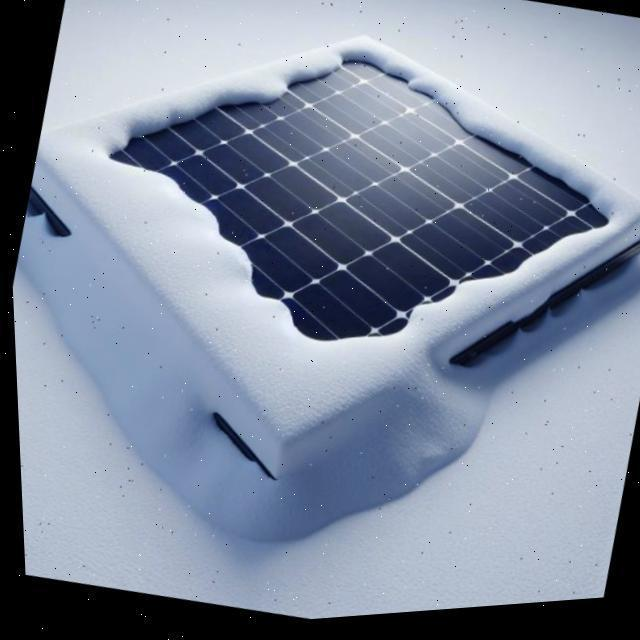Anomaly Solar Panel: (35, 0, 640, 498)
Snow: (35, 0, 640, 498), (107, 0, 608, 441)
